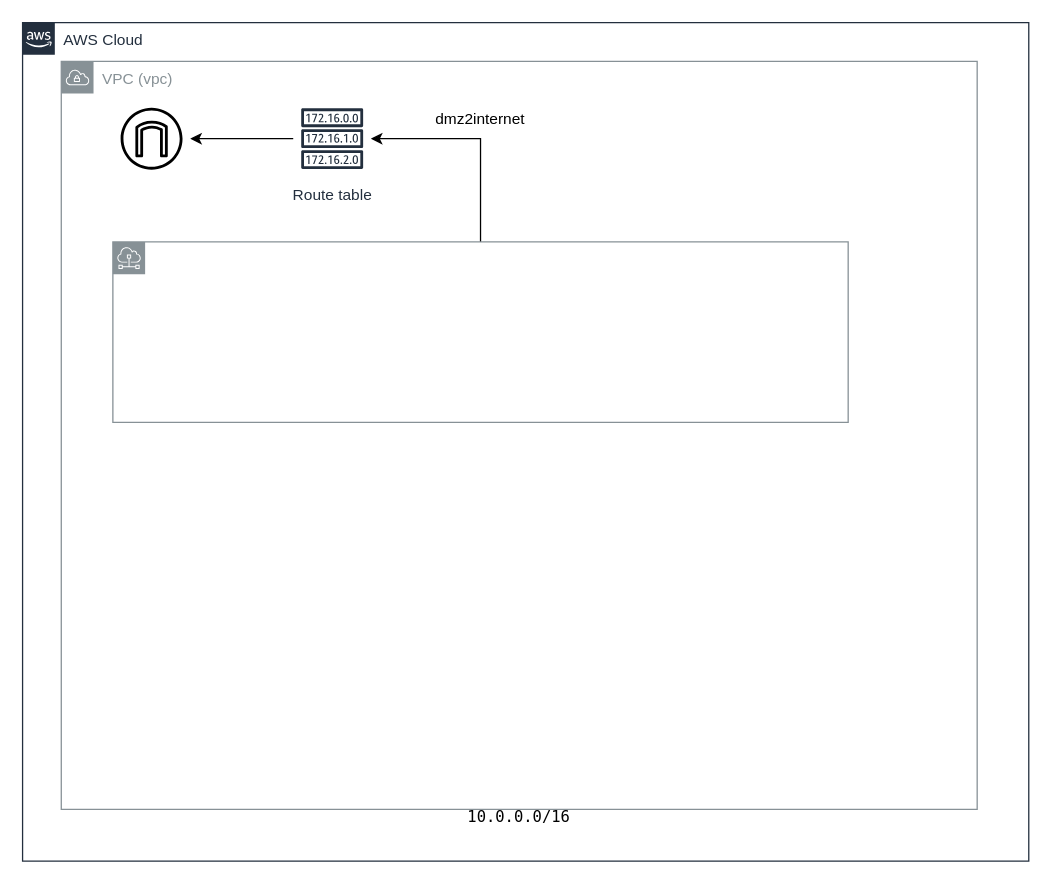
The diagram is 1051 pixels wide and 884 high, and some of its shapes have lost their labels. The shapes that lost their labels are listed below. From the top down, each one's centre as x and y in pixels, then its label:
At [151,138]: "Internet gateway".
At [480,331]: "Subnet (dmz)".
